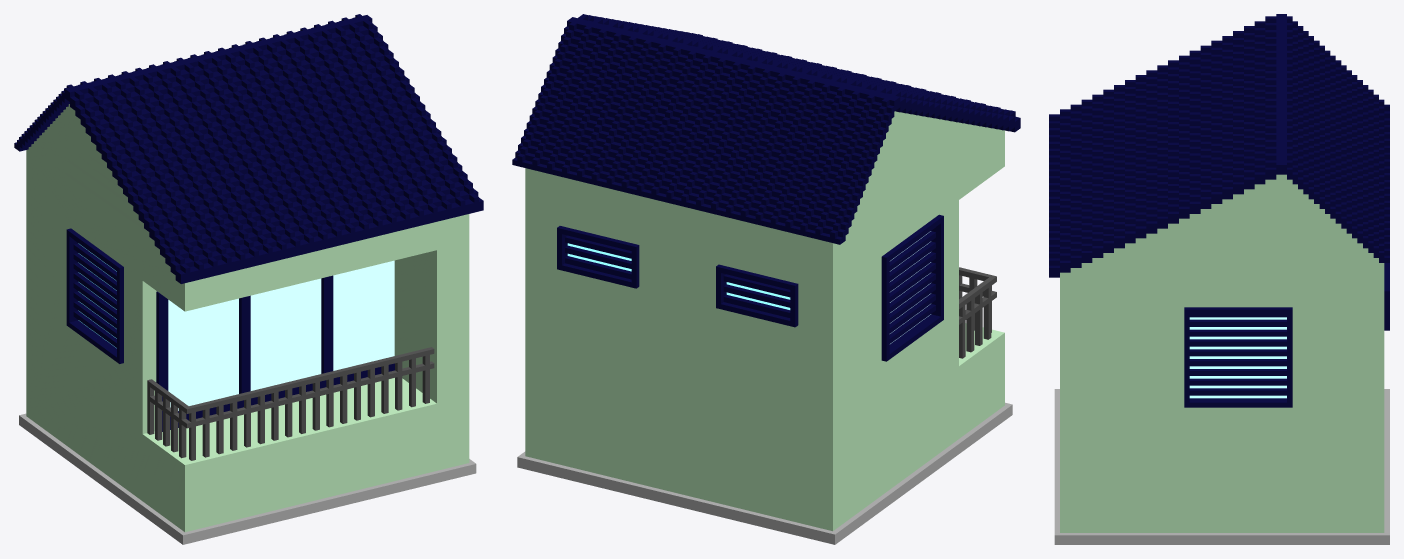
Rendered from typeSix.glb.
3 views of the same model, side by side, from view 1: azimuth 30°, elevation 25°; view 2: azimuth 150°, elevation 25°; view 3: azimuth 270°, elevation 25° (orthographic). The views are drawn at different scales.
Visible parts, largest first — view 1: ObjObject; view 2: ObjObject; view 3: ObjObject.
Part boxes in pixels (x1,y1,x2,y2): ObjObject: (14, 14, 483, 544); ObjObject: (512, 14, 1020, 544); ObjObject: (1049, 14, 1389, 544).
Size of the model in its own units: 6.6 by 7.8 by 6.3.
3 materials, 1 textured.
